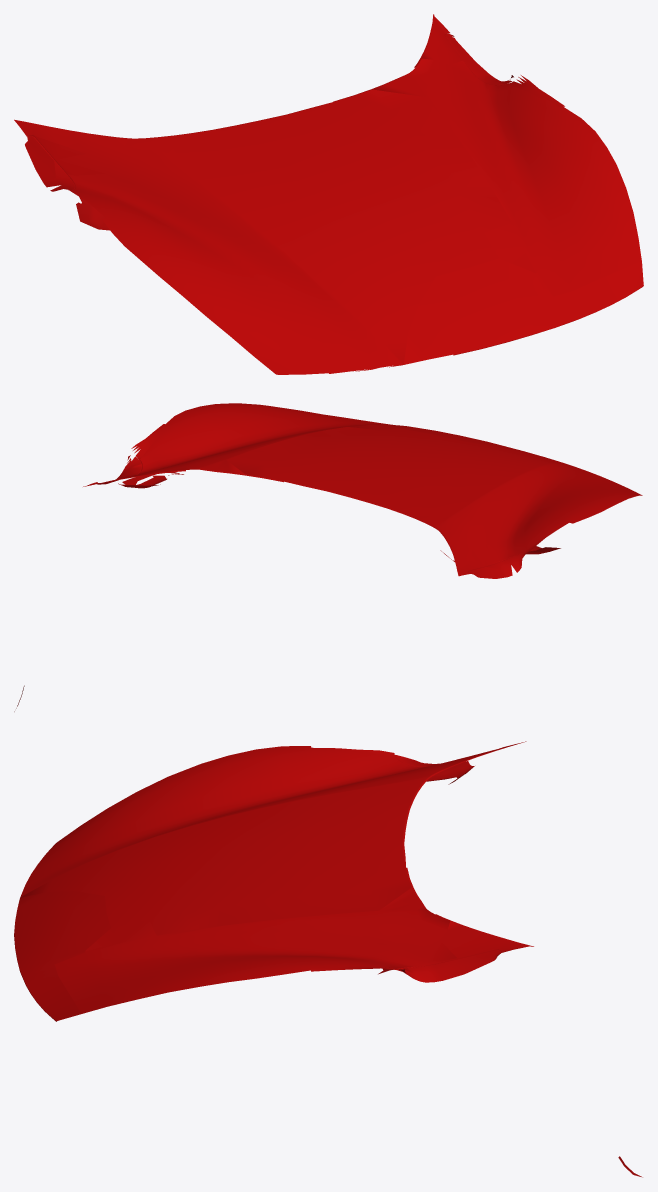
File: hood.glb
3 renders of one model, top to bottom at view 1: azimuth 30°, elevation 25°; view 2: azimuth 150°, elevation 25°; view 3: azimuth 270°, elevation 25°, orthographic. The views are drawn at different scales.
Parts seen in each view (by area): view 1: Paint_Geo_lodA_Ferrari_PurosangueRewardRecycled_2023Paint_M.; view 2: Paint_Geo_lodA_Ferrari_PurosangueRewardRecycled_2023Paint_M.; view 3: Paint_Geo_lodA_Ferrari_PurosangueRewardRecycled_2023Paint_M..
Boxes of the visible parts, x1=… form: Paint_Geo_lodA_Ferrari_PurosangueRewardRecycled_2023Paint_M.: x1=14, y1=14, x2=643, y2=374; Paint_Geo_lodA_Ferrari_PurosangueRewardRecycled_2023Paint_M.: x1=14, y1=403, x2=642, y2=711; Paint_Geo_lodA_Ferrari_PurosangueRewardRecycled_2023Paint_M.: x1=14, y1=741, x2=642, y2=1177.
Size of the model in its own units: 0.0159 by 0.0071 by 0.0184.
